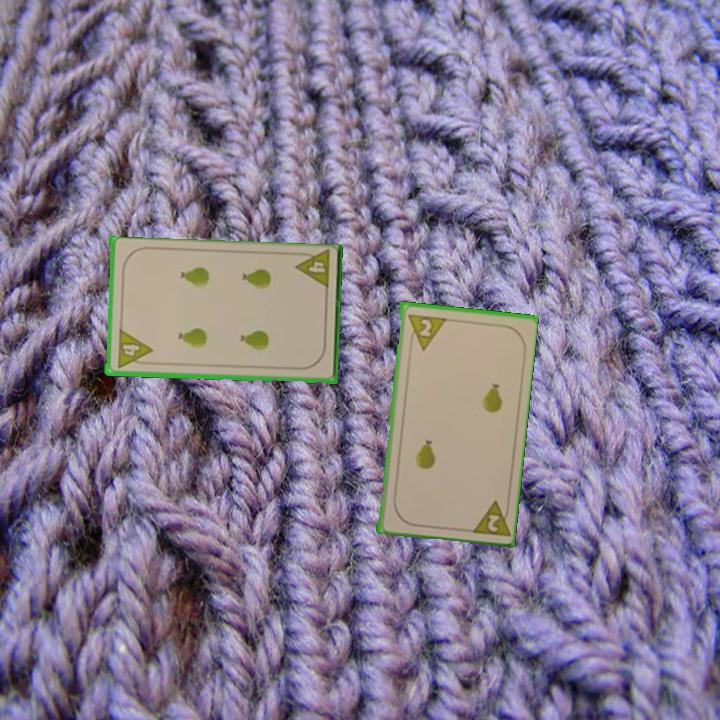2p: (466, 496, 512, 539), (404, 310, 447, 353)
4p: (113, 327, 154, 371), (292, 249, 333, 293)
